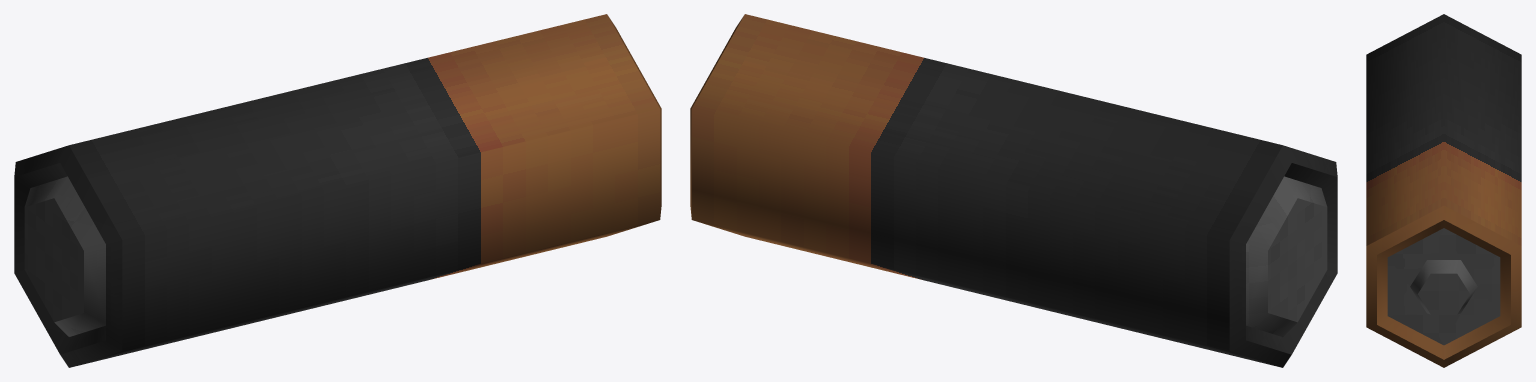
The model's file is battery_mp_1.glb.
3 views of the same model, side by side, from view 1: azimuth 30°, elevation 25°; view 2: azimuth 150°, elevation 25°; view 3: azimuth 270°, elevation 25° (orthographic). The views are drawn at different scales.
Parts seen in each view (by area): view 1: battery_mp_1; view 2: battery_mp_1; view 3: battery_mp_1.
Part boxes in pixels (x1=…): battery_mp_1: x1=14, y1=14, x2=661, y2=367; battery_mp_1: x1=690, y1=14, x2=1337, y2=367; battery_mp_1: x1=1366, y1=14, x2=1521, y2=367.
Size of the model in its own units: 0.097 by 0.036 by 0.0312.
Materials: 1 (1 with a texture image).
